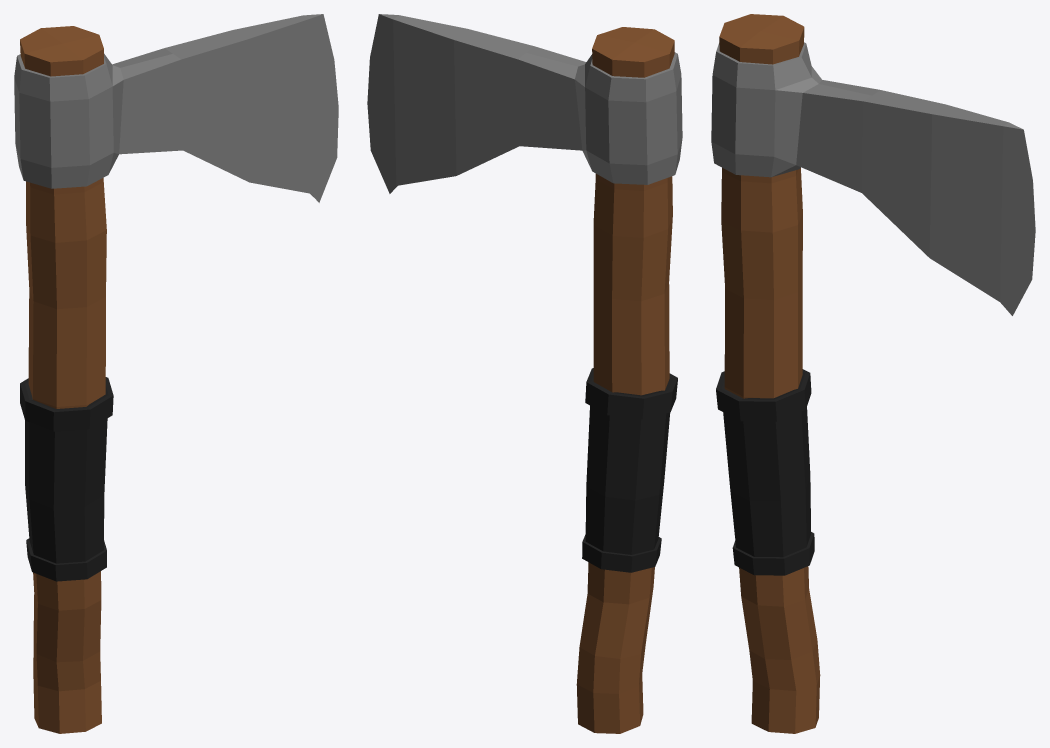
The model's file is Axe.fbx.
3 renders of one model, left to right at view 1: azimuth 30°, elevation 25°; view 2: azimuth 150°, elevation 25°; view 3: azimuth 330°, elevation 25°, orthographic. The views are drawn at different scales.
Parts seen in each view (by area): view 1: Axe; view 2: Axe; view 3: Axe.
Boxes of the visible parts, left/top/right/bottom form: Axe: left=14, top=14, right=338, bottom=733; Axe: left=367, top=14, right=682, bottom=733; Axe: left=711, top=14, right=1035, bottom=733.
Size of the model in its own units: 29.96 by 62.13 by 8.82.
